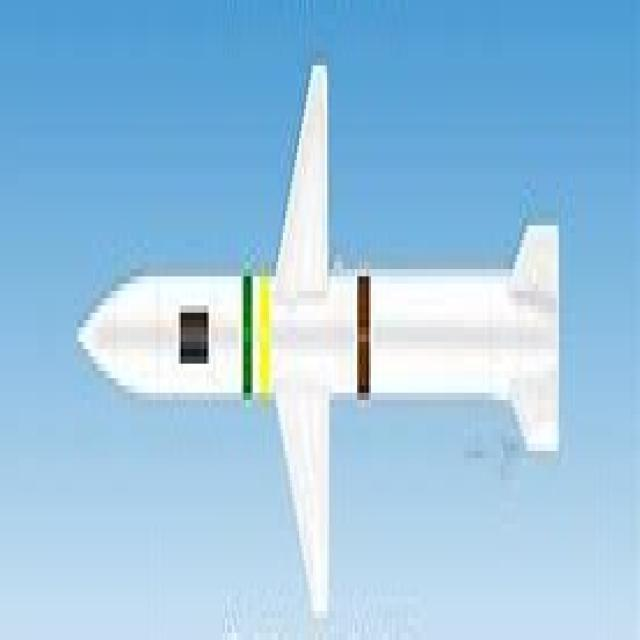missile: (78, 57, 568, 615)
